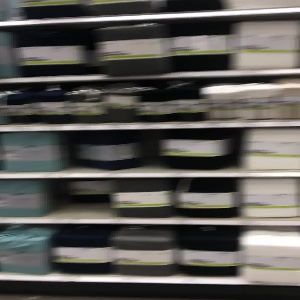void: (46, 181, 115, 218)
